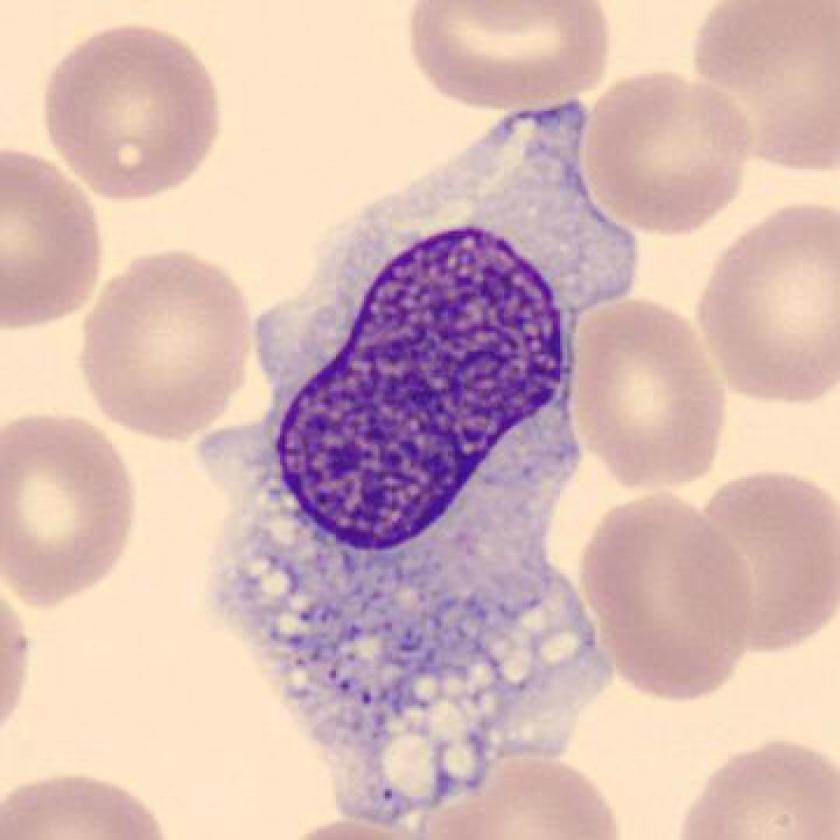monocyte: (179, 92, 669, 830)
